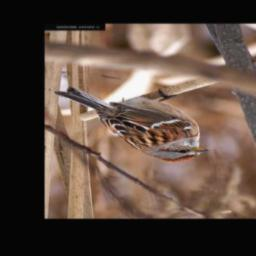Sparrow: (54, 87, 214, 164)
